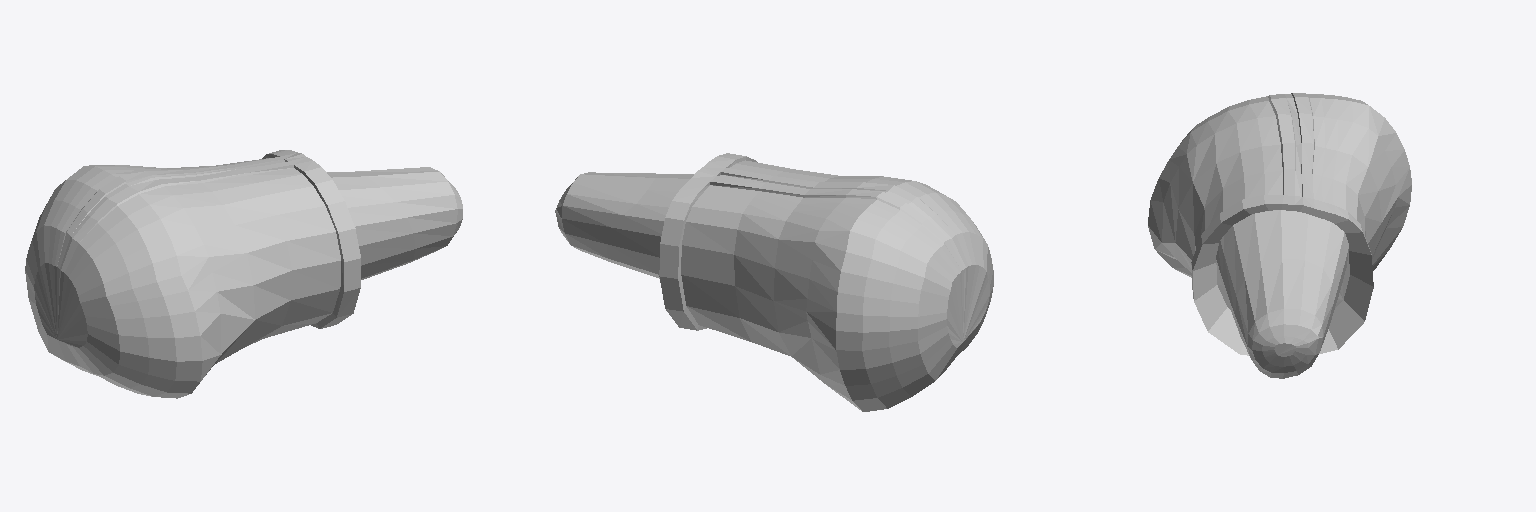
The model's file is 06_armUP_L.obj.
3 views of the same model, side by side, from view 1: azimuth 30°, elevation 25°; view 2: azimuth 150°, elevation 25°; view 3: azimuth 270°, elevation 25° (orthographic).
Parts seen in each view (by area): view 1: armUP_L; view 2: armUP_L; view 3: armUP_L.
Boxes of the visible parts, box(x1,y1,x2,y2) form: armUP_L: box(25, 150, 462, 398); armUP_L: box(555, 153, 993, 411); armUP_L: box(1148, 93, 1411, 378).
Size of the model in its own units: 2.47 by 1.17 by 1.41.